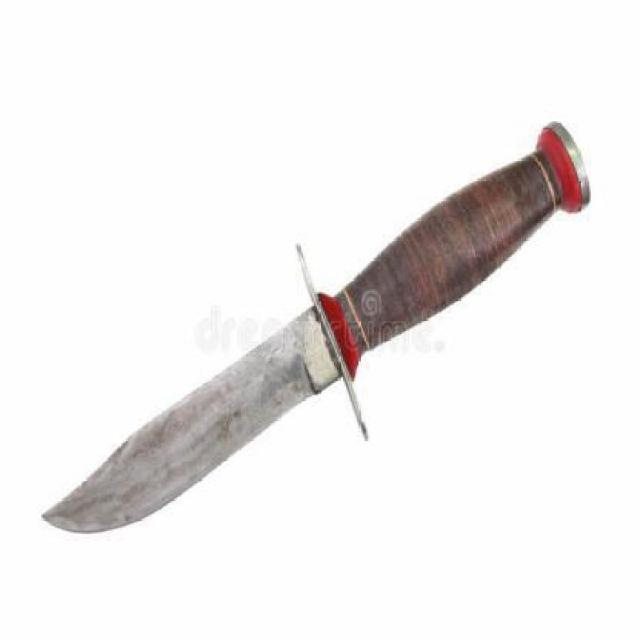-: (36, 278, 396, 551)
